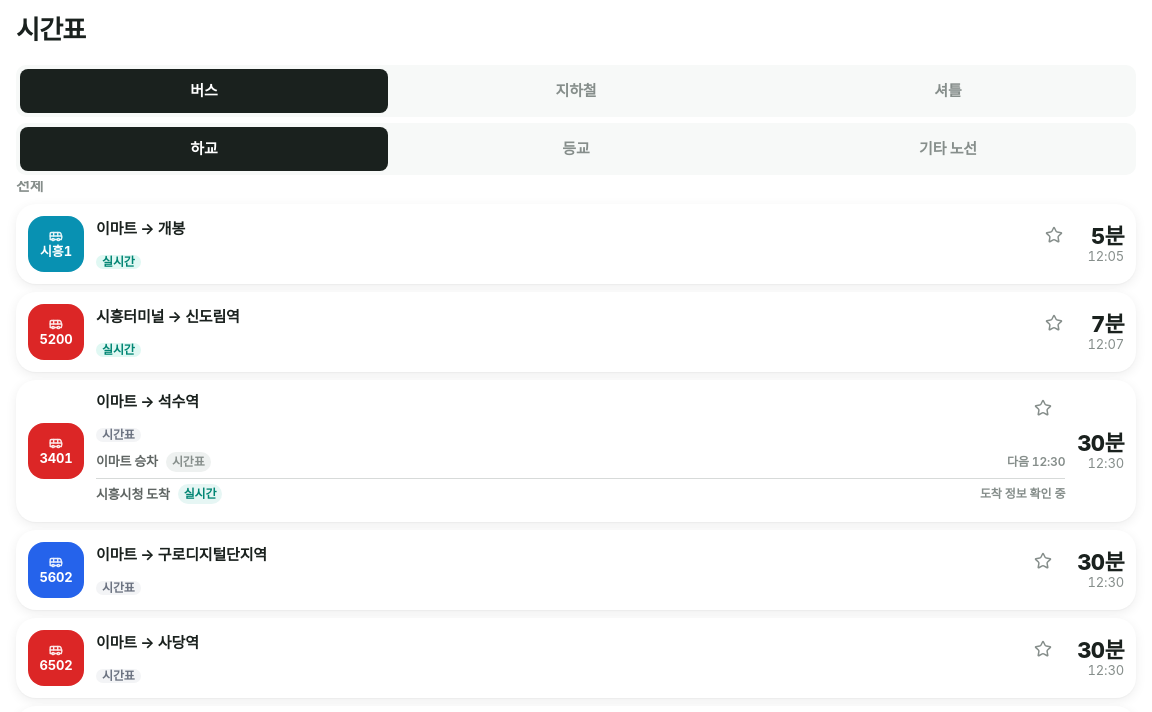
Test: SchedulePage — 통학 맥락과 정적 시간표 › 3401은 중복 컨텍스트가 정리되어 상세에도 방면 전환 탭이 뜨지 않는다
The image size is (1152, 712).
(page scrolled)
Click the text "3401" at (56, 451), box [28, 423, 84, 479]
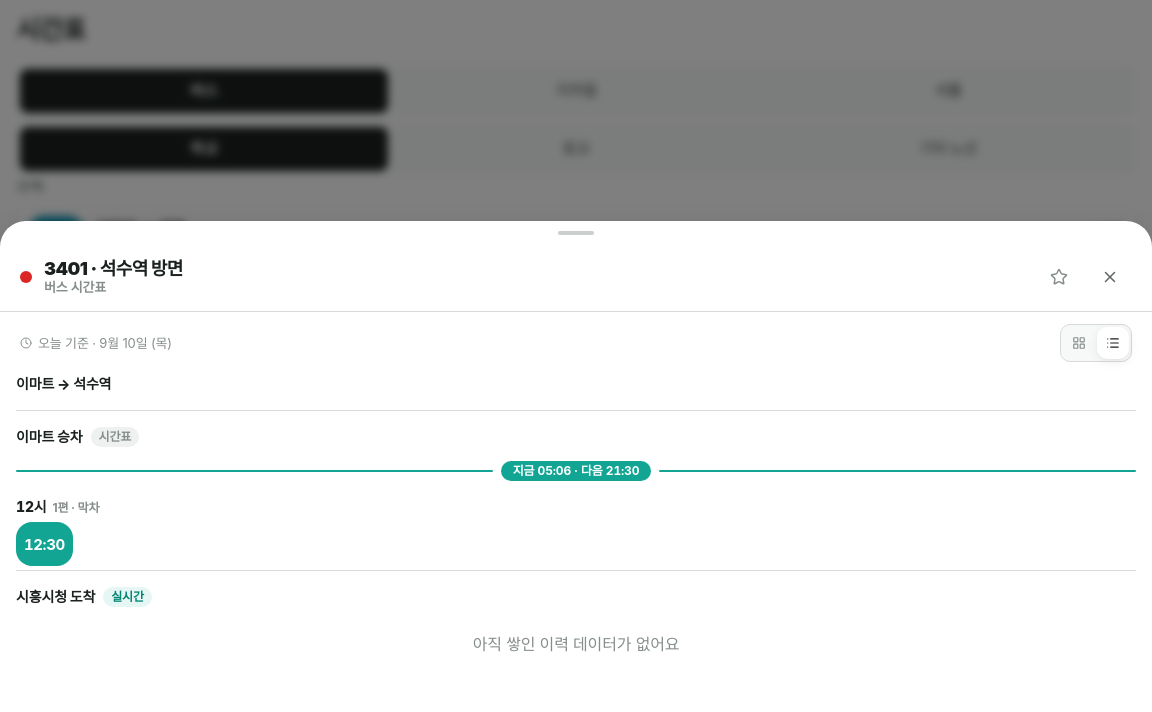
Expected: the text "버스 시간표" is shown, [44, 279, 106, 295]
